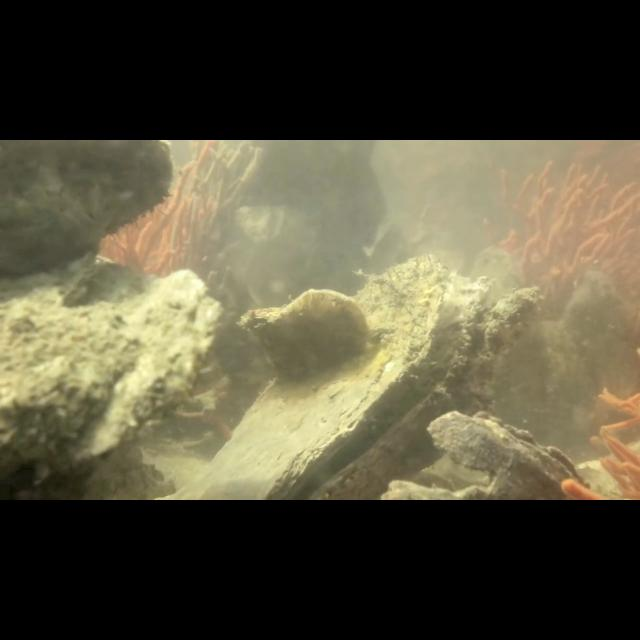Oyster-Closed: (2, 256, 222, 494), (0, 140, 174, 279), (380, 407, 581, 500)
Oyster-Open: (164, 239, 551, 498)
